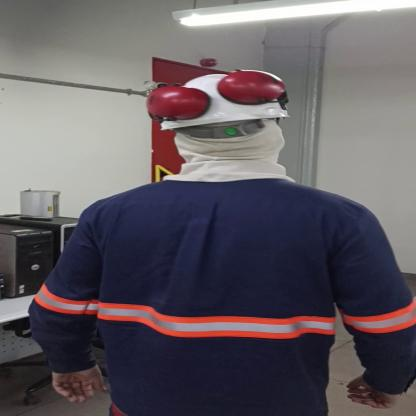Balaclava: (156, 128, 300, 187)
Capacete: (142, 70, 294, 128)
